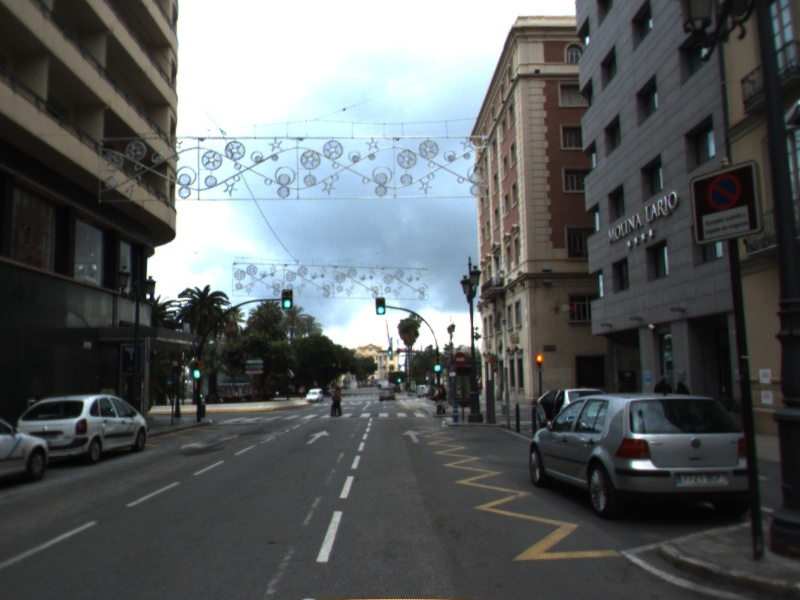STRAIGHT: (304, 428, 332, 446), (399, 428, 425, 445)
STRAIGHT_LEFT: (178, 433, 241, 452)
